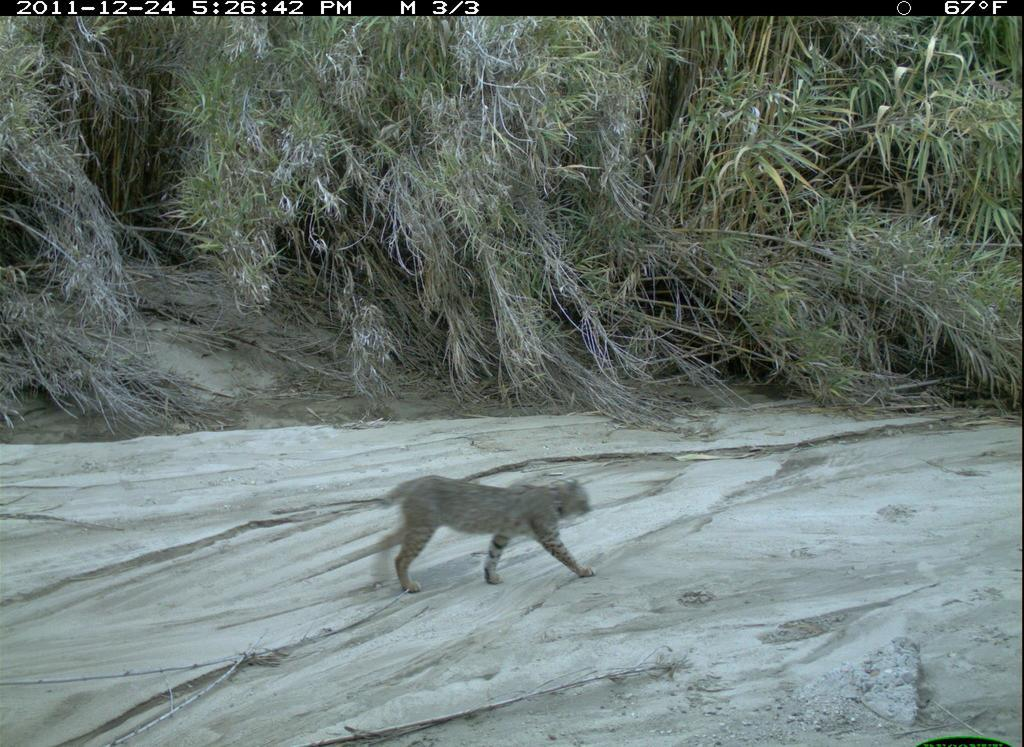bobcat: (356, 469, 611, 603)
